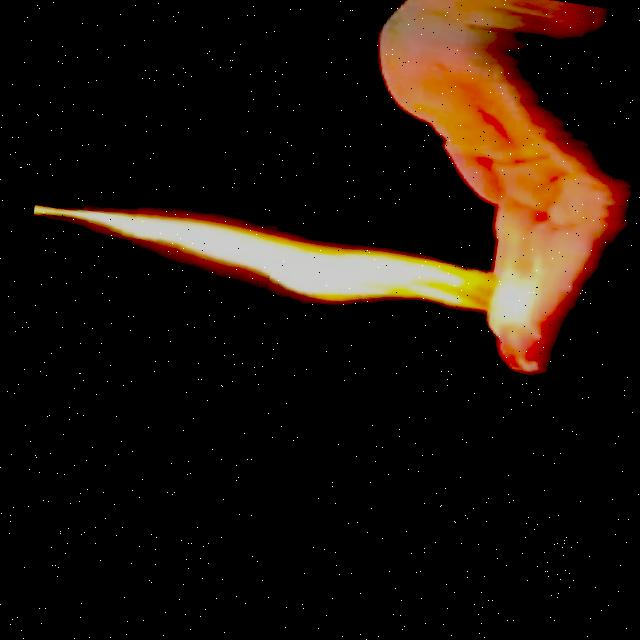Smoke: (15, 145, 549, 379)
